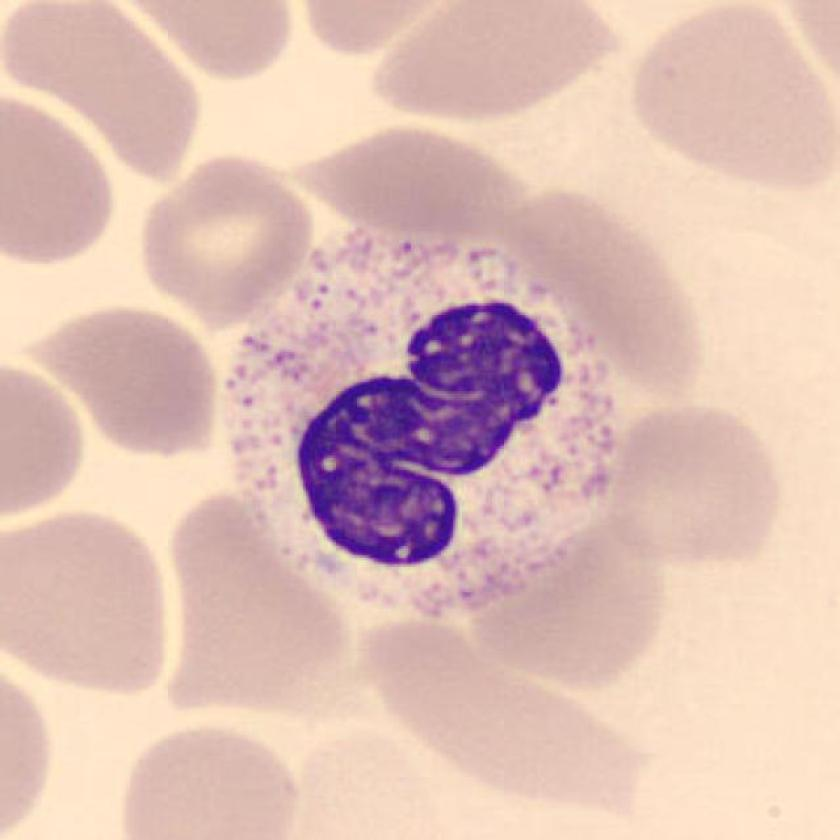neutrophil: (228, 236, 618, 613)
